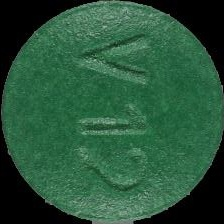68180-312: (0, 0, 224, 224)
